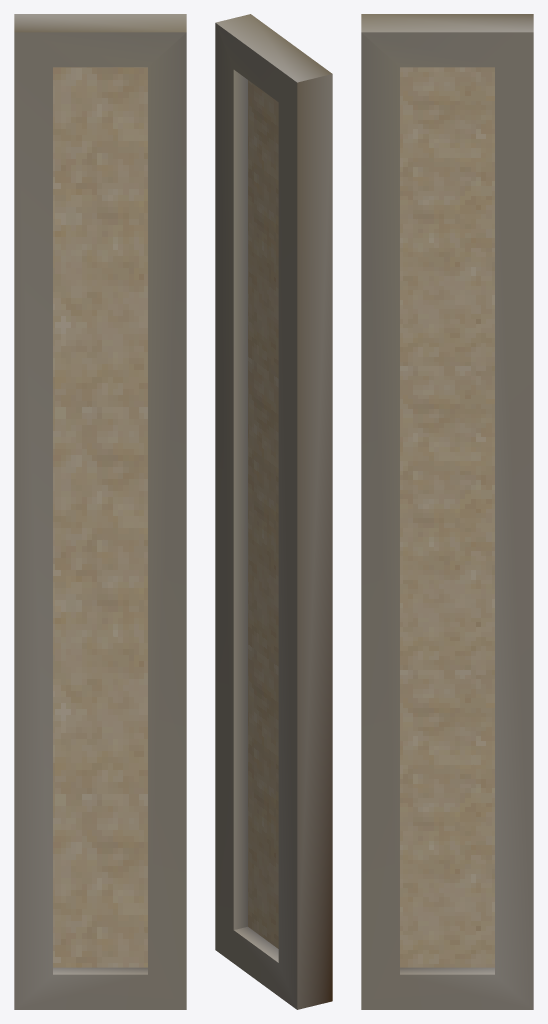
The model's file is tutikabe_0_5jyo_01.fbx.
The picture shows the model from 3 angles, left to right: view 1: azimuth 90°, elevation 25°; view 2: azimuth 210°, elevation 25°; view 3: azimuth 270°, elevation 25°; orthographic projection. The views are drawn at different scales.
Parts seen in each view (by area): view 1: tutikabe_0_5jyo_01; view 2: tutikabe_0_5jyo_01; view 3: tutikabe_0_5jyo_01.
Part boxes in pixels (x1,y1,x2,y2): tutikabe_0_5jyo_01: [14, 14, 186, 1009]; tutikabe_0_5jyo_01: [215, 14, 332, 1009]; tutikabe_0_5jyo_01: [361, 14, 533, 1009].
Size of the model in its own units: 20 by 500 by 80.
